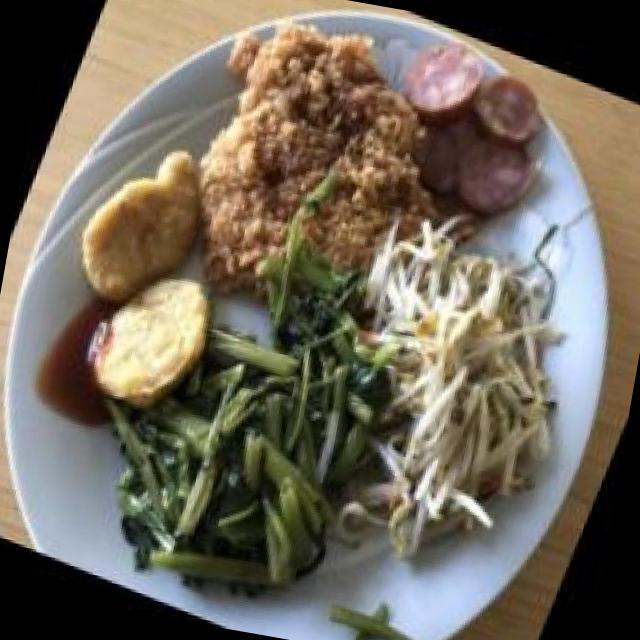chicken_nuggets: (25, 119, 274, 430)
chinese_sausage: (362, 23, 578, 240)
fried_chicken: (138, 0, 495, 363)
mung_bean_sprouts: (312, 217, 608, 582)
water_spinach: (100, 280, 406, 633)
